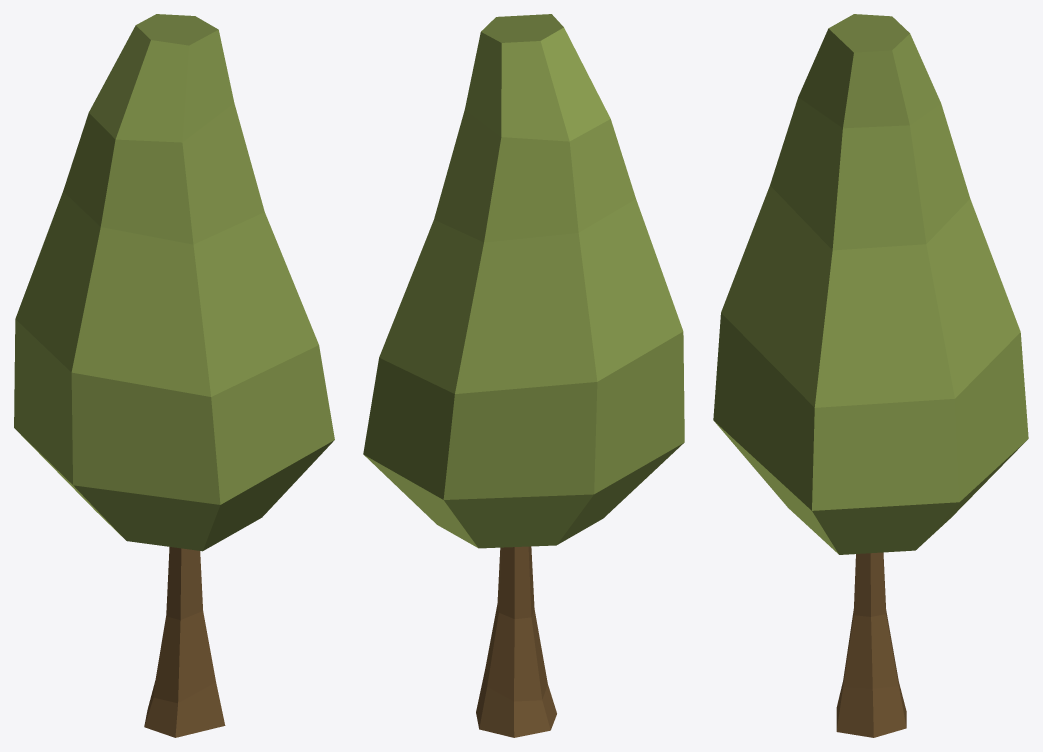
File: Tree_5.FBX
3 views of the same model, side by side, from view 1: azimuth 30°, elevation 25°; view 2: azimuth 150°, elevation 25°; view 3: azimuth 270°, elevation 25° (orthographic).
Parts seen in each view (by area): view 1: Tree_5; view 2: Tree_5; view 3: Tree_5.
Boxes of the visible parts, bbox=[...] form: Tree_5: bbox=[14, 14, 334, 737]; Tree_5: bbox=[363, 14, 684, 737]; Tree_5: bbox=[713, 14, 1028, 737].
Bounding box in the file's own units: 1.83 × 4.63 × 1.93.
Materials: 1 (1 with a texture image).
